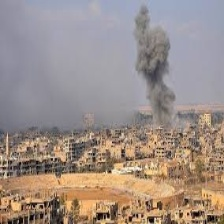smoke: (14, 44, 130, 127), (134, 3, 186, 127)
